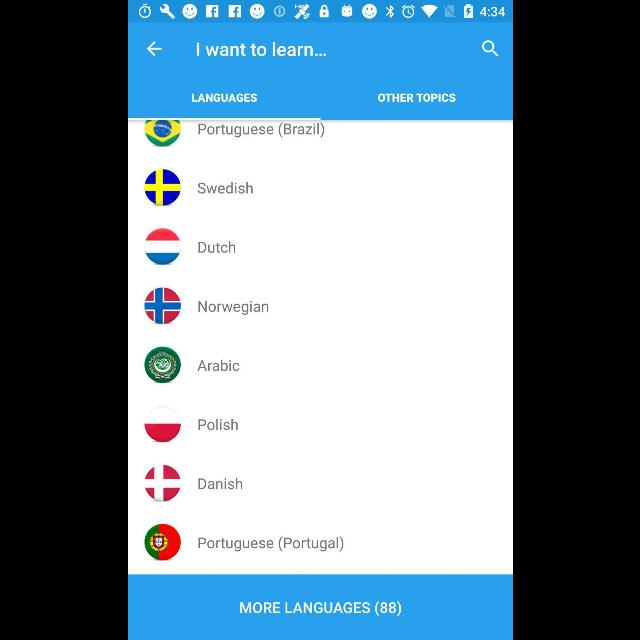icon: (482, 41, 498, 58), (146, 41, 162, 57)
image: (144, 464, 180, 502), (144, 346, 180, 384), (144, 228, 180, 266), (144, 169, 180, 207), (144, 524, 180, 560), (144, 406, 180, 442), (144, 288, 180, 324), (144, 120, 180, 148)
text: (198, 536, 342, 552), (198, 122, 324, 138), (196, 42, 326, 56), (198, 301, 268, 315), (198, 182, 252, 194), (377, 94, 455, 102), (198, 478, 242, 490), (191, 94, 257, 102), (197, 359, 239, 371), (197, 419, 237, 431), (198, 241, 235, 253)
textbutton: (128, 574, 512, 640)
uppertaskbar: (128, 1, 512, 23)
